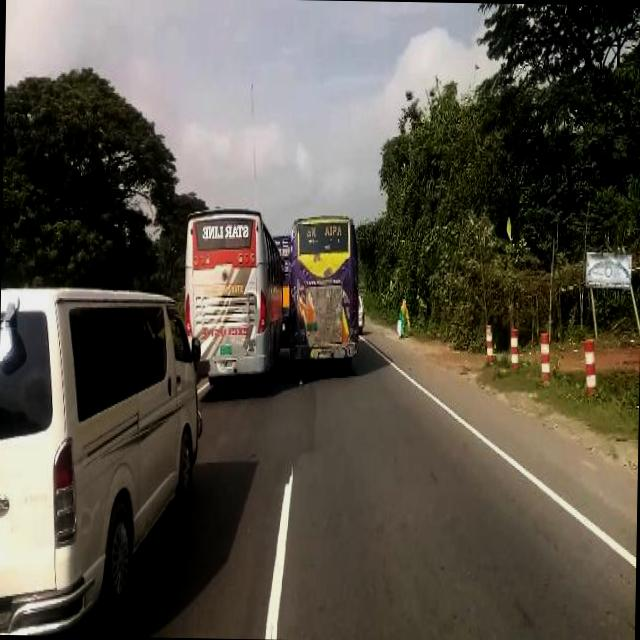bus: (191, 204, 283, 384), (290, 208, 356, 366)
car: (358, 294, 366, 332)
truck: (0, 289, 206, 629), (282, 232, 292, 322)
